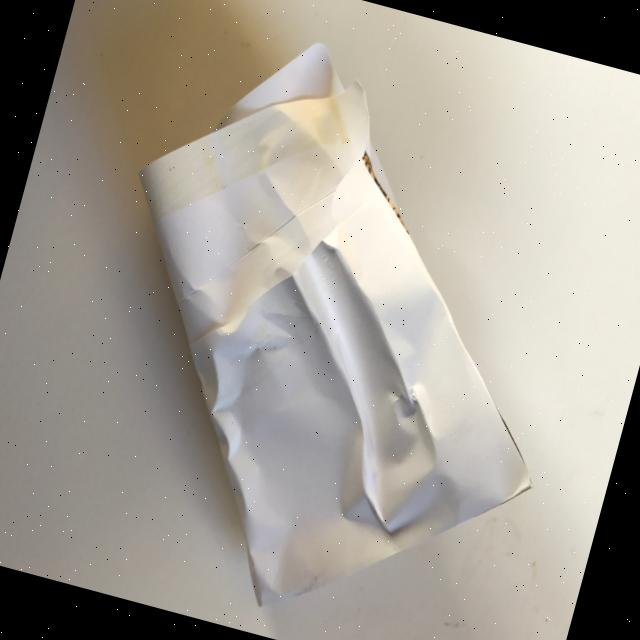paper: (37, 5, 628, 640)
